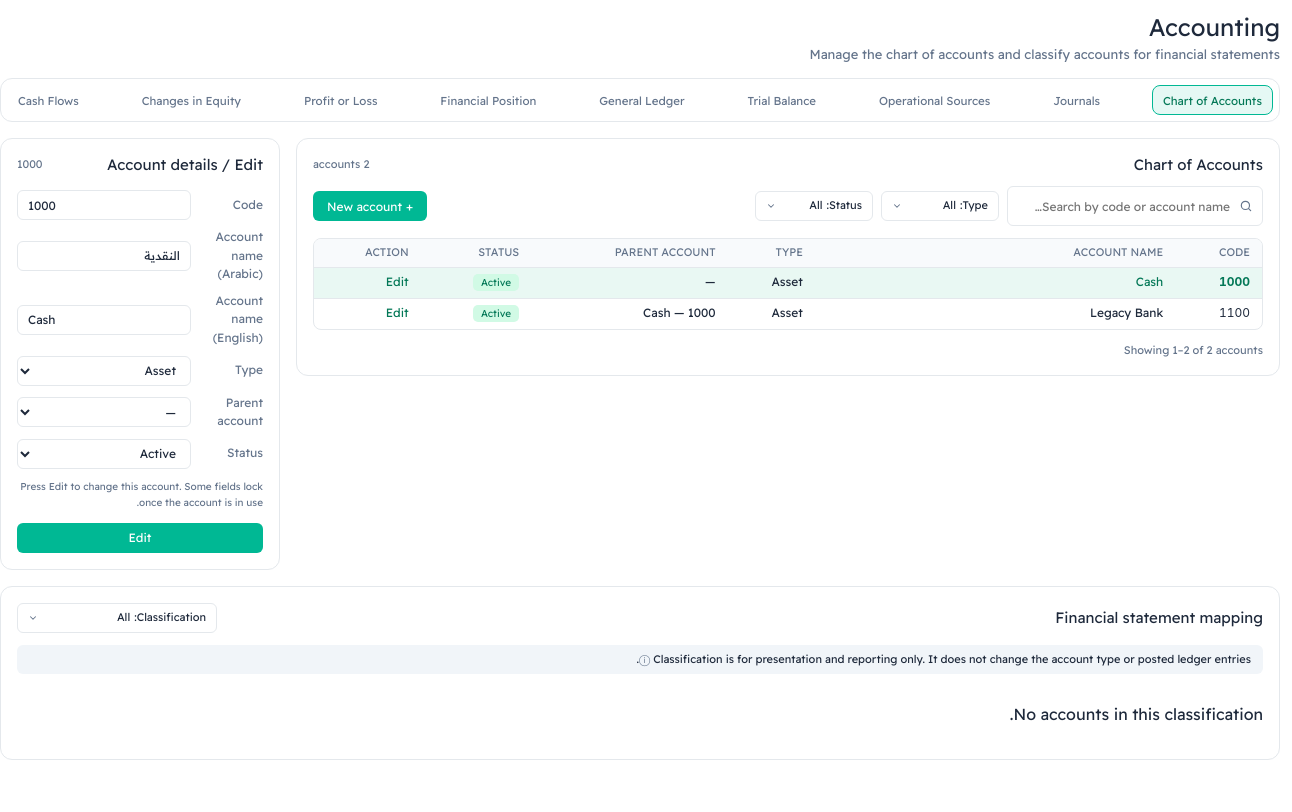
bilingual account names › keeps typed values and shows an inline message when the code already exists
Click the button "+ New account": point(370, 206) [313,191,427,221]
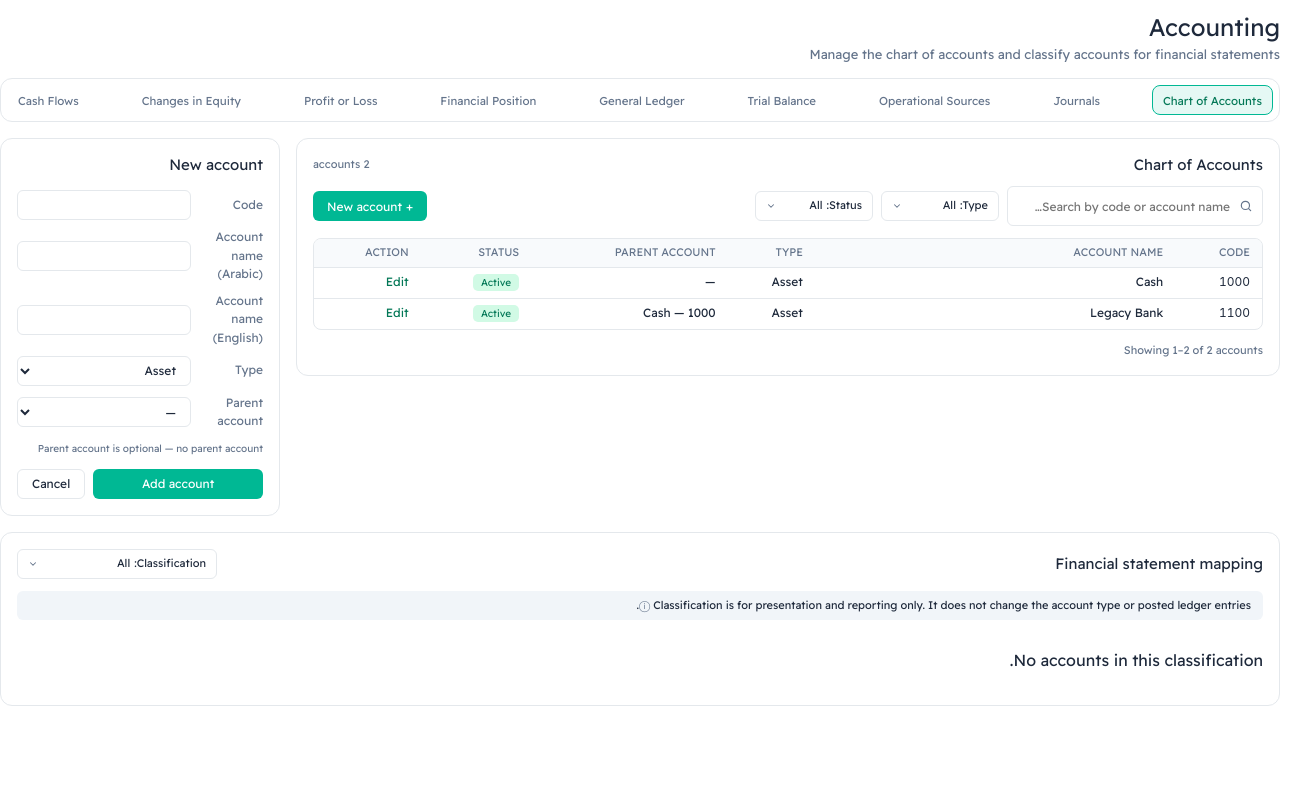
In the field labelled "Code": point(104, 205) [17,190,191,220], type "1000"
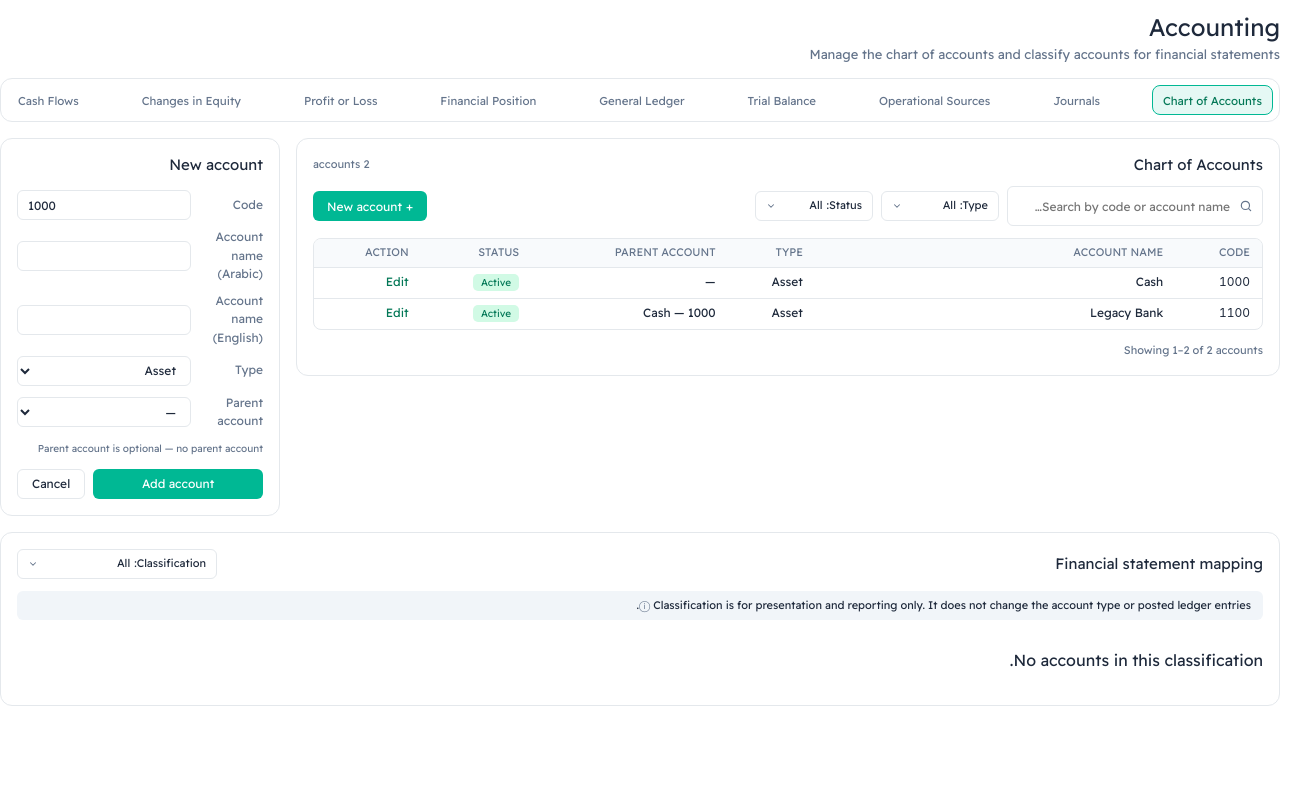
In the field labelled "Account name (English)": point(104, 320) [17,305,191,335], type "Cash 2"
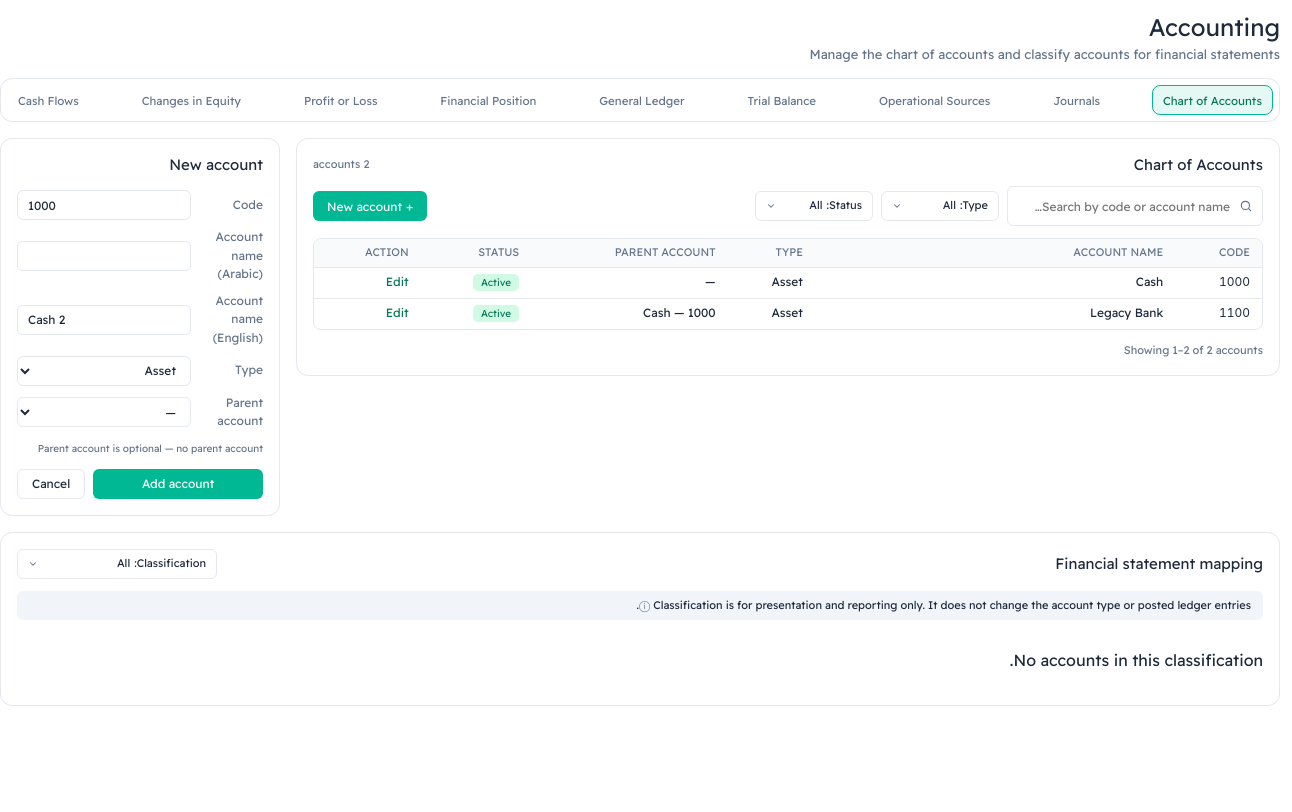
Submit the form "Code", box [17,190,263,499]
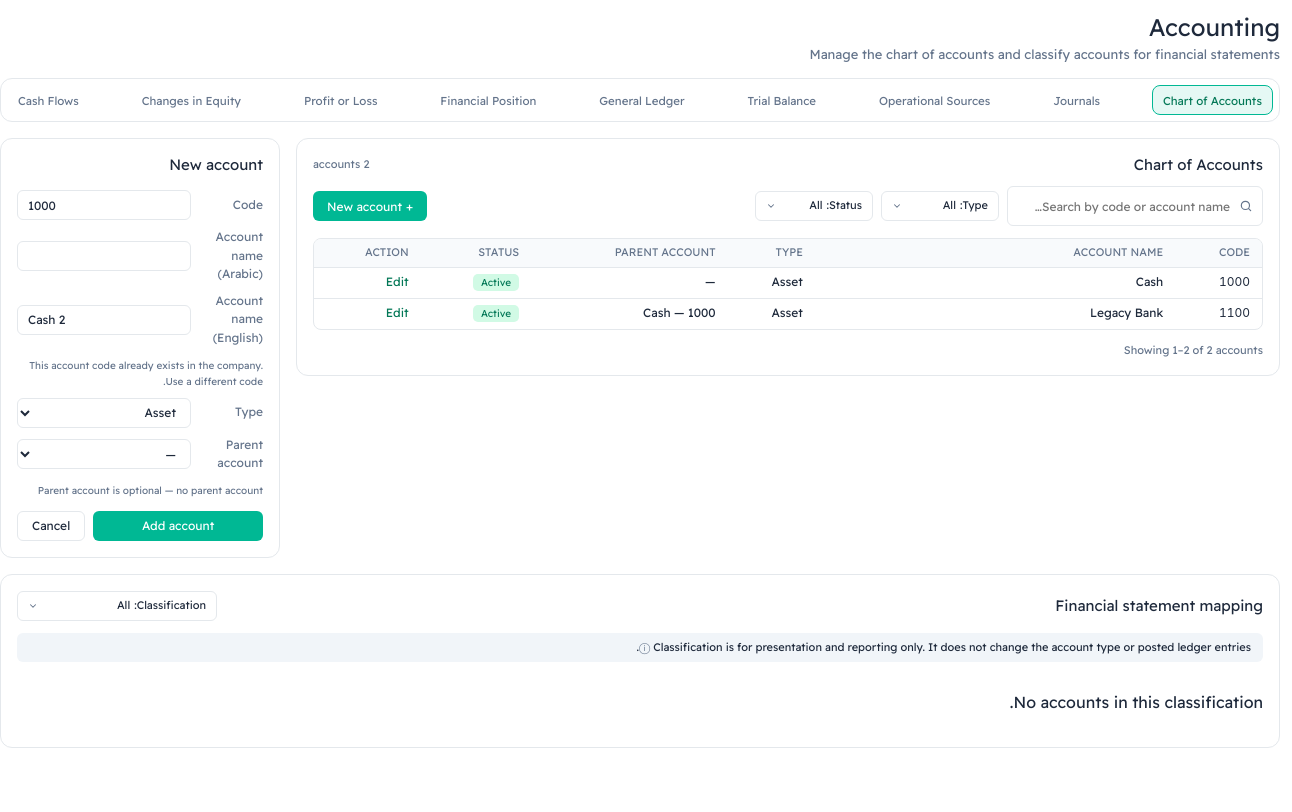
Expected: the message "This account code already exists in the company. Use a different code." is shown, [17,358,263,390]
